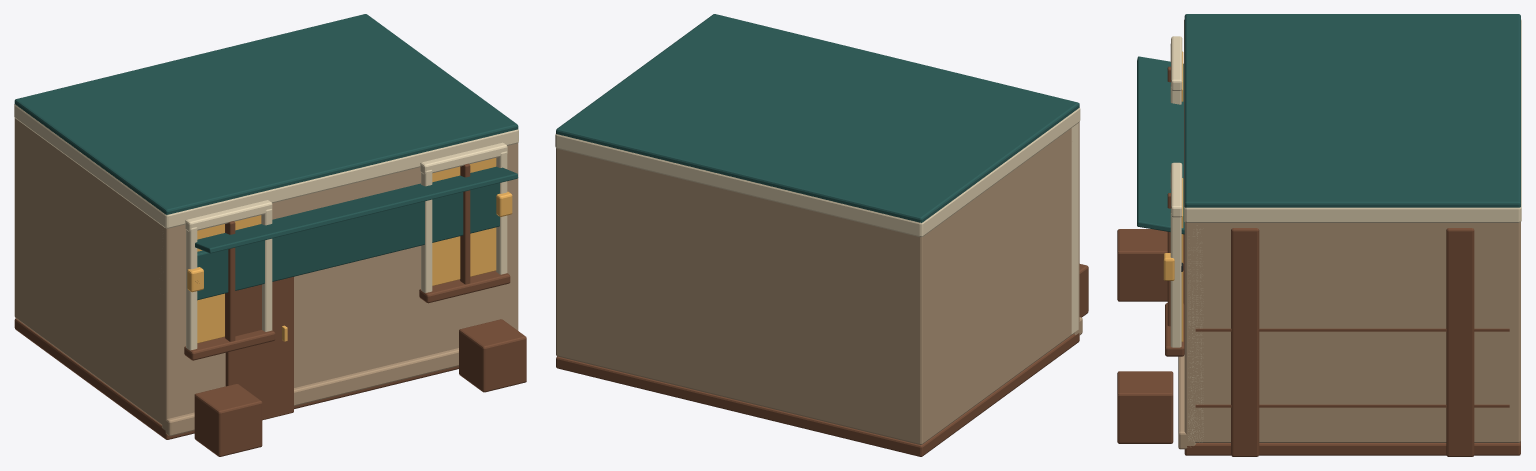
3 renders of one model, left to right at view 1: azimuth 30°, elevation 25°; view 2: azimuth 150°, elevation 25°; view 3: azimuth 270°, elevation 25°, orthographic. The views are drawn at different scales.
Visible parts, largest first — view 1: ClosedSupportingVolume, Roof_RemoveForInteriorReview, NQ-SGN-08, WalnutDoorLeaf, FrontAwning, CreamRoofCornice, SupplyCrate, SupplyCrate.001, PlinthBand, WindowGraphicProxy.001, Floor, CreamSideCornice (+11 smaller); view 2: ClosedSupportingVolume, Roof_RemoveForInteriorReview, Floor, CreamRoofCornice.001, CreamSideCornice, CornerTrim; view 3: Roof_RemoveForInteriorReview, ClosedSupportingVolume, FrontAwning, SideBrickPilaster, SideBrickPilaster.001, CreamSideCornice.001, SupplyCrate.001, Floor, SupplyCrate, WindowJamb.003, SideMasonryCourse, SideMasonryCourse.001 (+6 smaller).
Part boxes in pixels (bbox=[...]): ClosedSupportingVolume: bbox=[14, 118, 518, 426]; Roof_RemoveForInteriorReview: bbox=[14, 14, 518, 214]; NQ-SGN-08: bbox=[197, 183, 499, 300]; WalnutDoorLeaf: bbox=[225, 277, 293, 420]; FrontAwning: bbox=[195, 166, 518, 253]; CreamRoofCornice: bbox=[166, 129, 518, 228]; SupplyCrate: bbox=[194, 384, 262, 456]; SupplyCrate.001: bbox=[459, 319, 526, 392]; PlinthBand: bbox=[162, 348, 458, 436]; WindowGraphicProxy.001: bbox=[432, 158, 496, 285]; Floor: bbox=[14, 318, 458, 439]; CreamSideCornice: bbox=[14, 104, 166, 228]; ClosedSupportingVolume: bbox=[556, 122, 1079, 444]; Roof_RemoveForInteriorReview: bbox=[556, 14, 1079, 222]; Floor: bbox=[556, 333, 1079, 456]; CreamRoofCornice.001: bbox=[555, 134, 921, 237]; CreamSideCornice: bbox=[921, 107, 1080, 236]; CornerTrim: bbox=[1071, 123, 1078, 334]; Roof_RemoveForInteriorReview: bbox=[1184, 14, 1520, 207]; ClosedSupportingVolume: bbox=[1184, 222, 1520, 442]; FrontAwning: bbox=[1137, 56, 1184, 234]; SideBrickPilaster: bbox=[1231, 228, 1259, 456]; SideBrickPilaster.001: bbox=[1446, 228, 1474, 456]; CreamSideCornice.001: bbox=[1185, 207, 1520, 222]; SupplyCrate.001: bbox=[1117, 371, 1173, 443]; Floor: bbox=[1184, 441, 1520, 455]; SupplyCrate: bbox=[1117, 229, 1167, 301]; WindowJamb.003: bbox=[1170, 210, 1181, 347]; SideMasonryCourse: bbox=[1195, 404, 1509, 407]; SideMasonryCourse.001: bbox=[1195, 328, 1509, 331].
Size of the model in its own units: 16.12 by 10 by 14.42.
